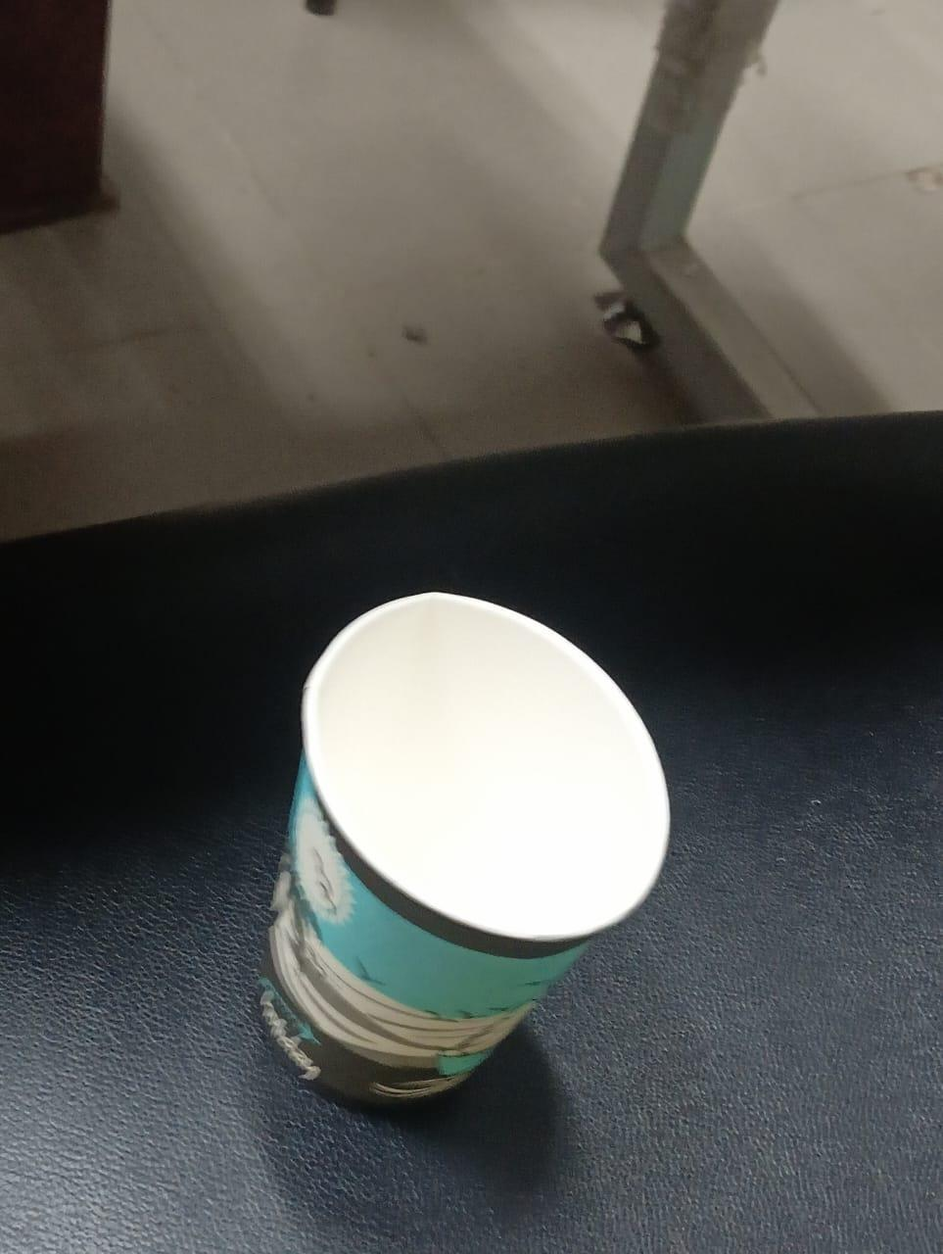cup: (261, 594, 668, 1101)
